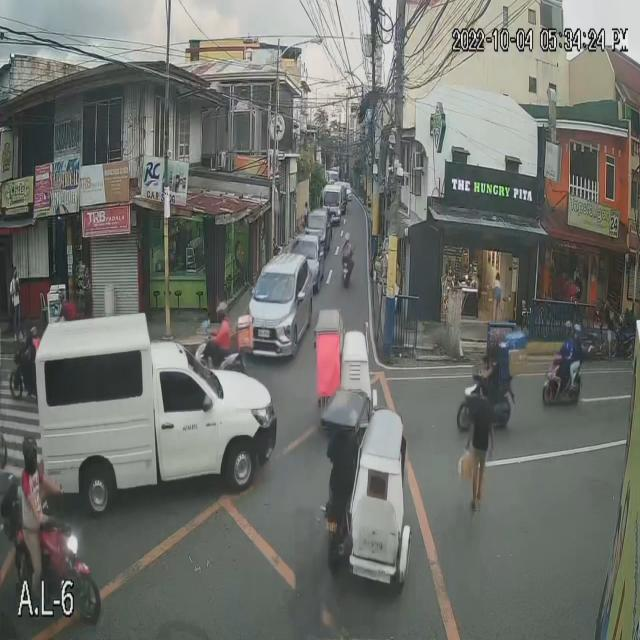Full-Faced: (216, 295, 232, 320), (571, 317, 582, 346), (562, 319, 573, 340), (342, 227, 352, 246)
Not-Wearing-Helmet: (17, 432, 40, 482)
